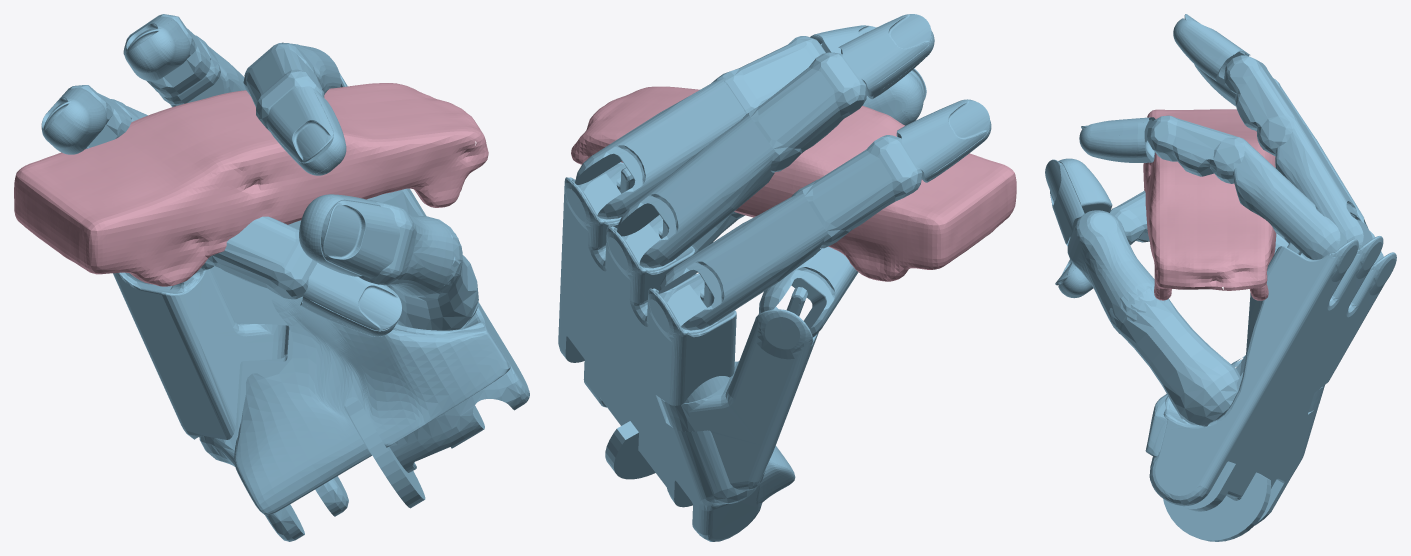
3 renders of one model, left to right at view 1: azimuth 30°, elevation 25°; view 2: azimuth 150°, elevation 25°; view 3: azimuth 270°, elevation 25°, orthographic. The views are drawn at different scales.
Visible parts, largest first — view 1: hand, world; view 2: hand, world; view 3: hand, world.
Boxes of the visible parts, x1,y1,x2,y2 form: hand: (41, 14, 529, 541); world: (14, 83, 488, 286); hand: (558, 14, 991, 541); world: (571, 86, 1016, 281); hand: (1045, 14, 1396, 541); world: (1143, 109, 1276, 300).
Bounding box in the file's own units: 0.1467 × 0.1731 × 0.124.
